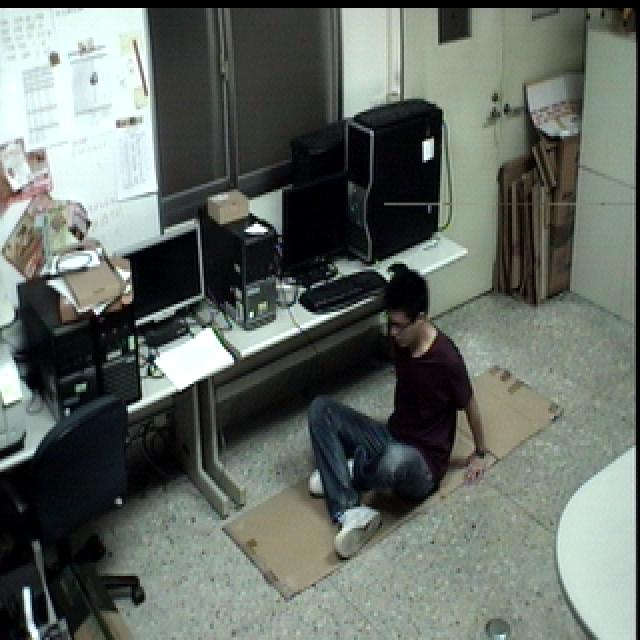sit: (300, 264, 497, 559)
